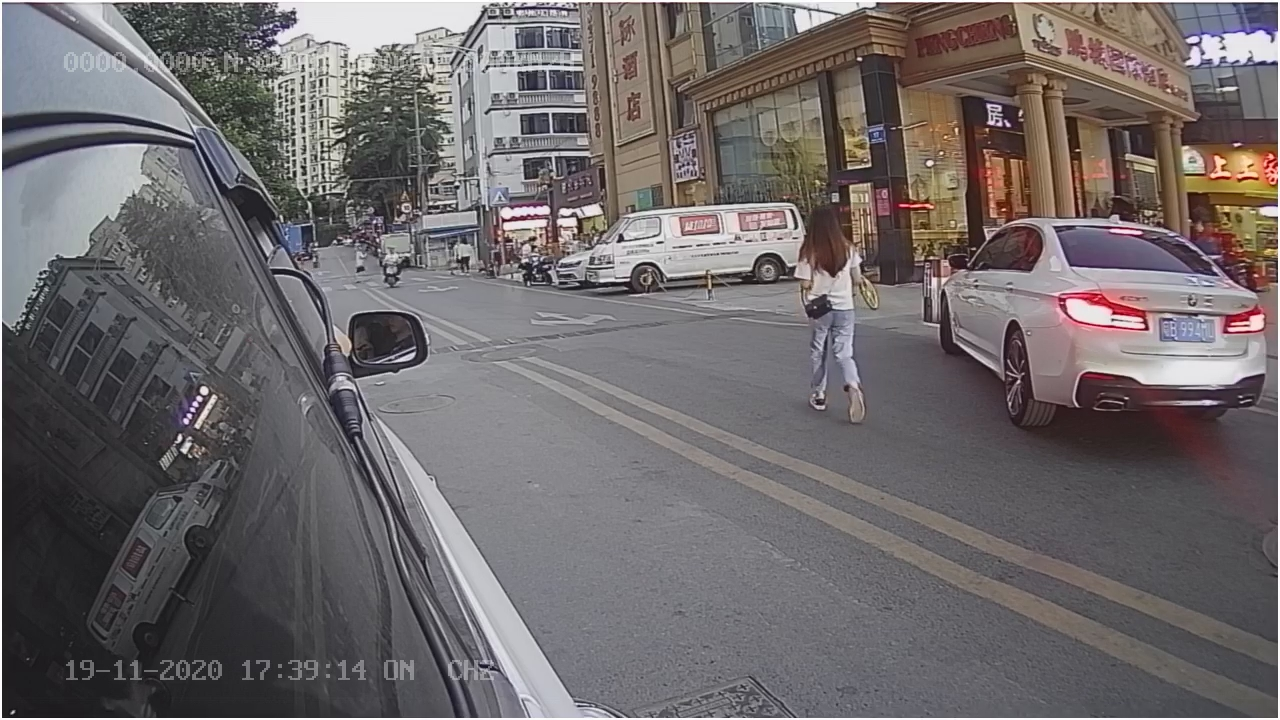person: (786, 204, 873, 428)
